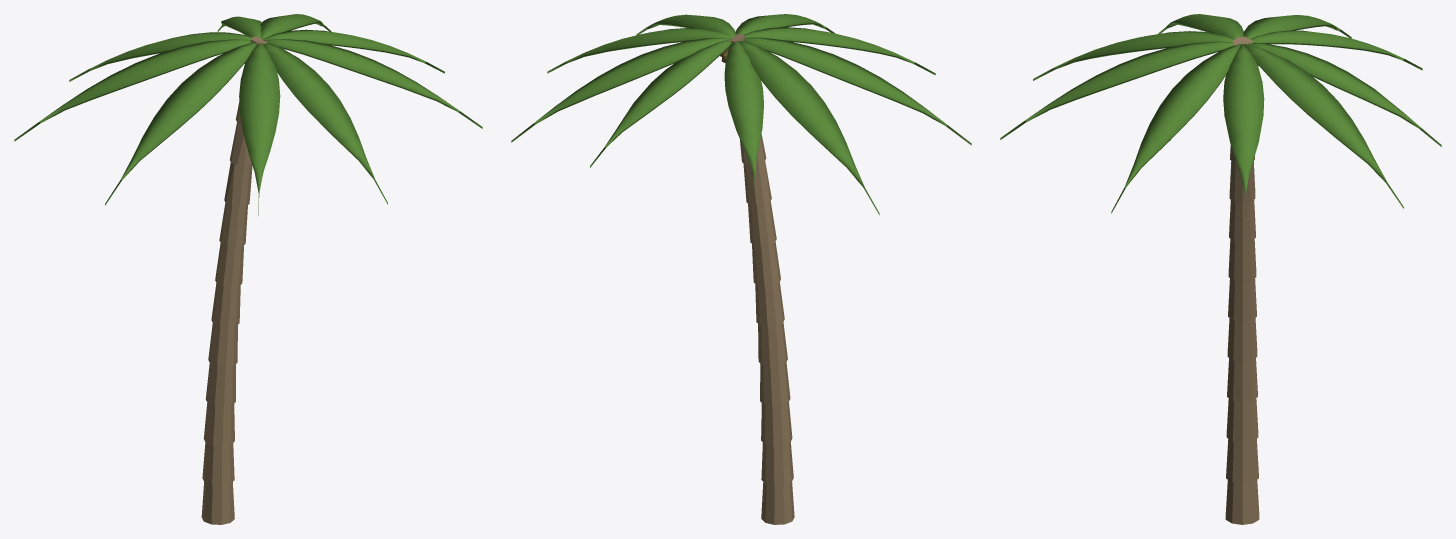
The model's file is palm.glb.
3 views of the same model, side by side, from view 1: azimuth 30°, elevation 25°; view 2: azimuth 150°, elevation 25°; view 3: azimuth 270°, elevation 25° (orthographic). The views are drawn at different scales.
Parts seen in each view (by area): view 1: fronds, trunk; view 2: fronds, trunk; view 3: fronds, trunk.
Part boxes in pixels (x1,y1,x2,y2): fronds: (14,14,482,215); trunk: (201,36,267,524); fronds: (511,14,971,214); trunk: (727,34,794,524); fronds: (1000,14,1441,221); trunk: (1225,36,1259,524).
Bounding box in the file's own units: 9.39 × 11.06 × 8.87.
